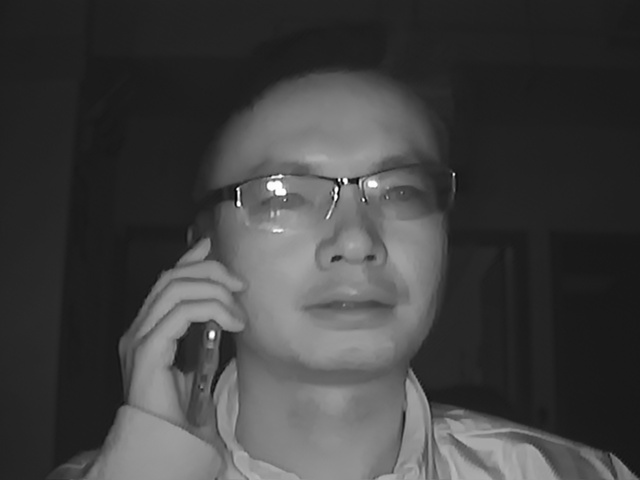hand: (113, 236, 244, 422)
